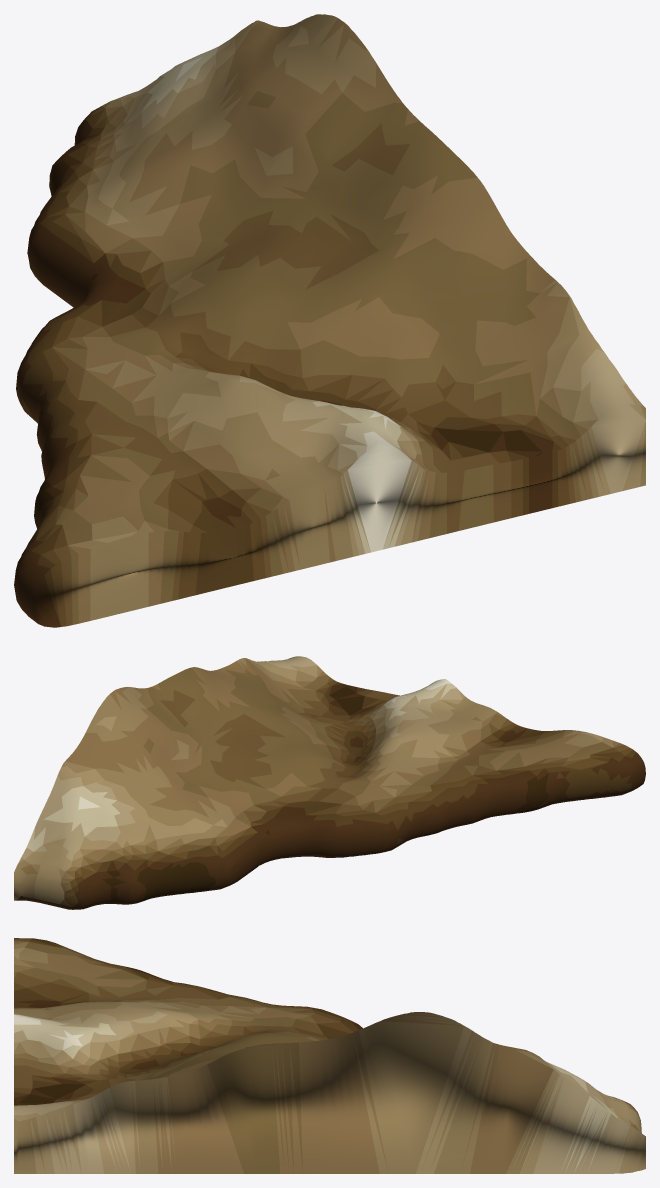
Rendered from rock_arch_198.glb.
The picture shows the model from 3 angles, top to bottom: view 1: azimuth 30°, elevation 25°; view 2: azimuth 150°, elevation 25°; view 3: azimuth 270°, elevation 25°; orthographic projection. The views are drawn at different scales.
Visible parts, largest first — view 1: rock_arch_198; view 2: rock_arch_198; view 3: rock_arch_198.
Part boxes in pixels (x1=…): rock_arch_198: x1=14, y1=14, x2=645, y2=627; rock_arch_198: x1=14, y1=656, x2=645, y2=909; rock_arch_198: x1=14, y1=938, x2=645, y2=1173.
Bounding box in the file's own units: 20.93 × 7.92 × 28.
